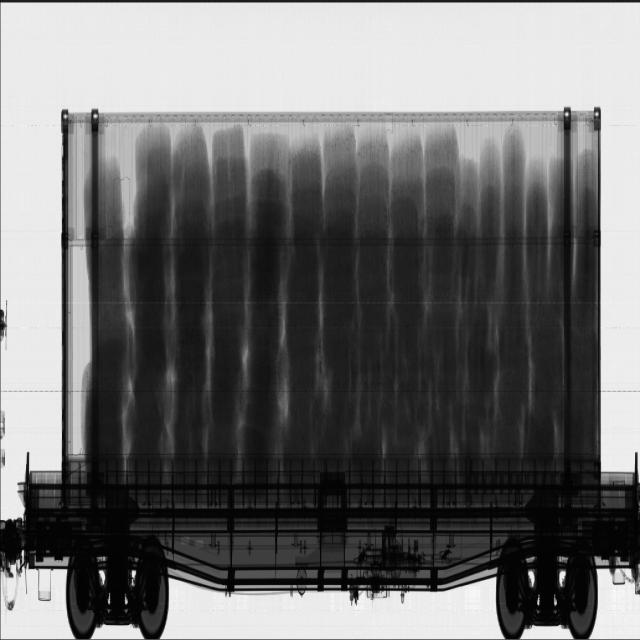clothes: (71, 124, 600, 471)
